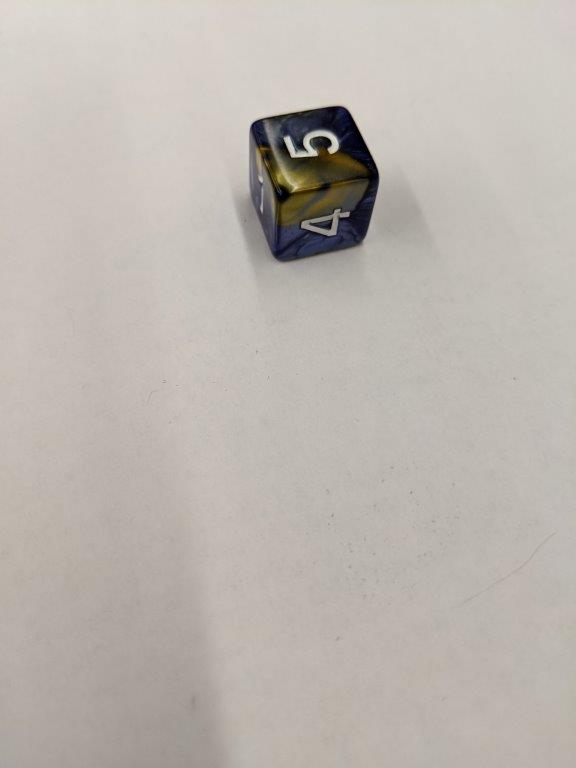d6-5: (246, 105, 378, 265)
